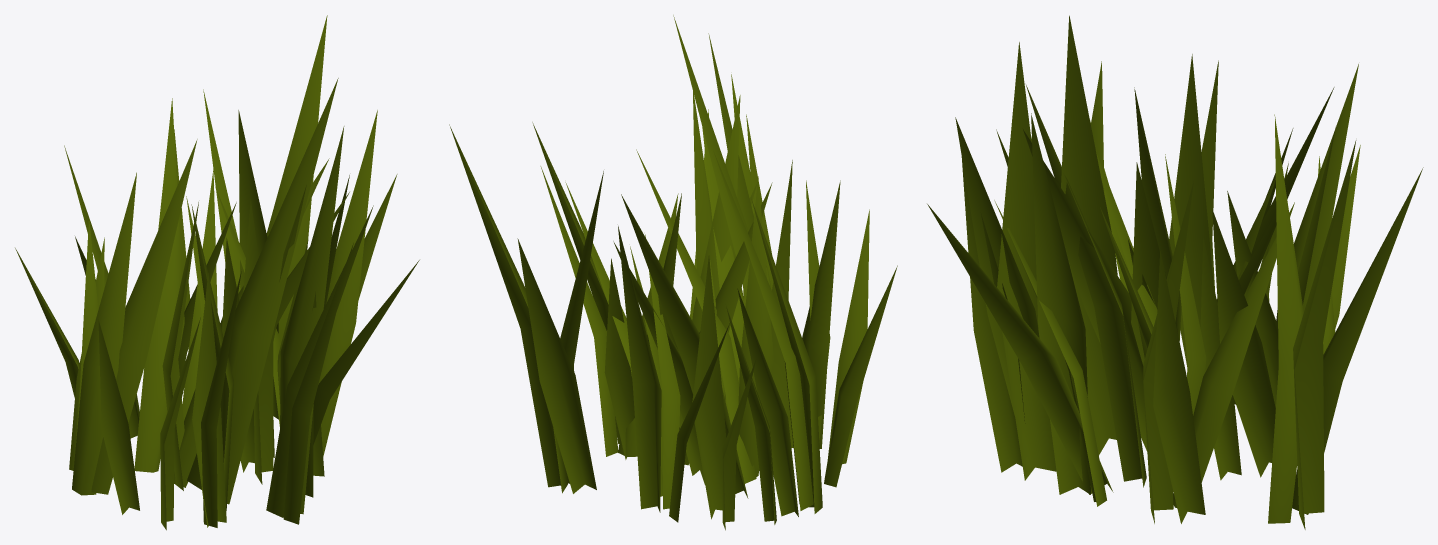
The model's file is Grass Fluff.fbx.
3 renders of one model, left to right at view 1: azimuth 30°, elevation 25°; view 2: azimuth 150°, elevation 25°; view 3: azimuth 270°, elevation 25°, orthographic. The views are drawn at different scales.
Parts seen in each view (by area): view 1: Plane.168; view 2: Plane.168; view 3: Plane.168.
Boxes of the visible parts, x1,y1,x2,y2 form: Plane.168: [15, 15, 419, 530]; Plane.168: [449, 15, 897, 530]; Plane.168: [927, 15, 1423, 529].
Size of the model in its own units: 103 by 120 by 108.
